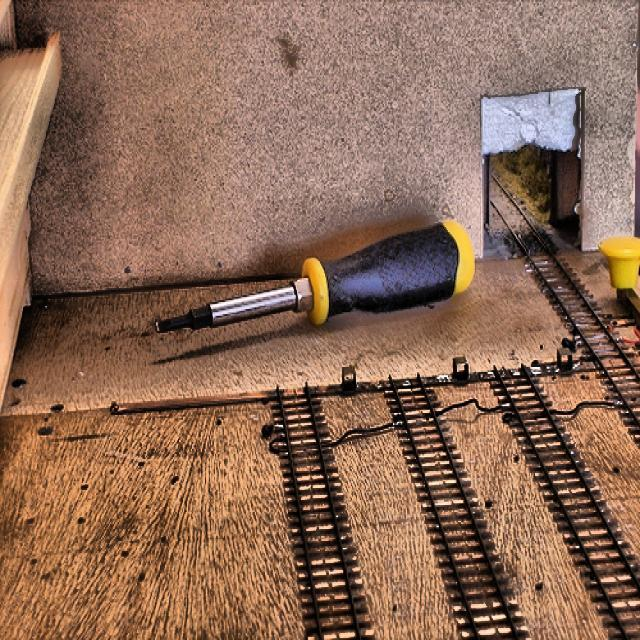screwdriver: (155, 221, 475, 334)
